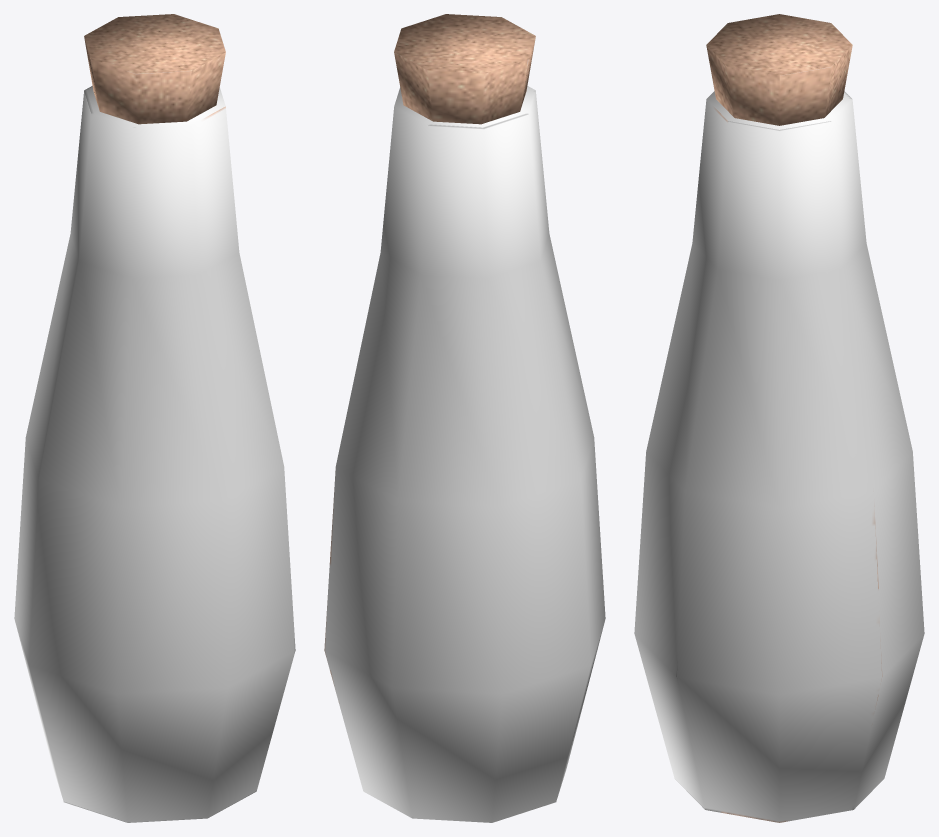
File: MilkGlass.glb
3 views of the same model, side by side, from view 1: azimuth 30°, elevation 25°; view 2: azimuth 150°, elevation 25°; view 3: azimuth 270°, elevation 25° (orthographic).
Parts seen in each view (by area): view 1: Circle; view 2: Circle; view 3: Circle.
Part boxes in pixels (x1,y1,x2,y2): Circle: [14, 14, 295, 822]; Circle: [324, 14, 605, 822]; Circle: [634, 14, 924, 822].
Bounding box in the file's own units: 0.4622 × 1.29 × 0.4622.
Materials: 1 (1 with a texture image).
